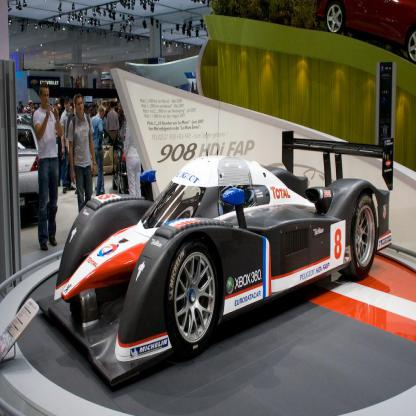face: (42, 89, 50, 105), (77, 98, 84, 115), (66, 102, 69, 108)
